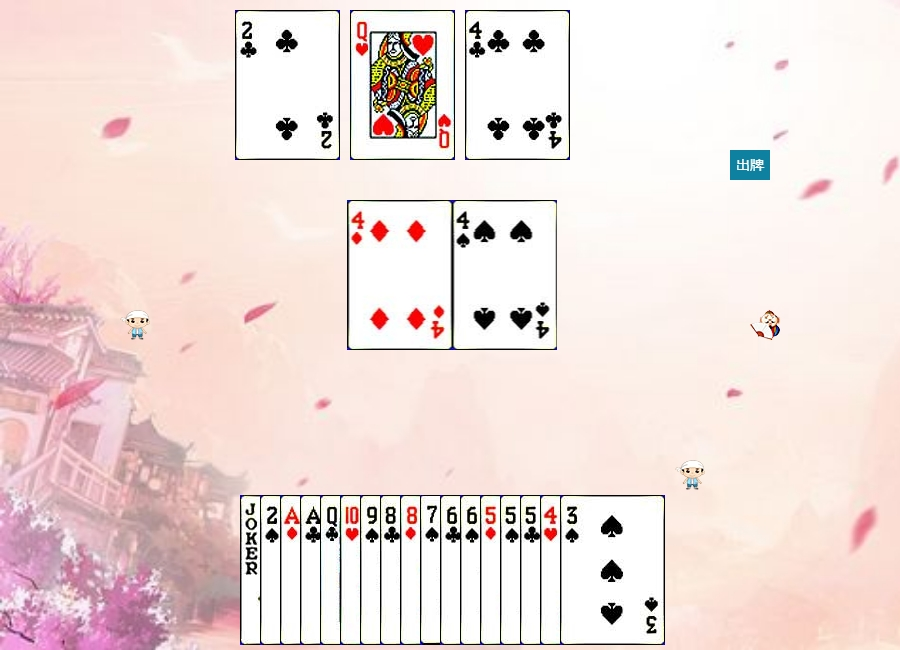10~3: (340, 495, 445, 645)
12~2: (320, 495, 425, 645)
12~3: (350, 10, 455, 160)
14~1: (280, 495, 385, 645)
14~2: (300, 495, 405, 645)
15~2: (235, 10, 340, 160)
15~4: (260, 495, 365, 645)
17~3: (240, 495, 345, 645)
3~4: (560, 495, 665, 645)
4~1: (348, 200, 453, 350)
4~2: (465, 10, 570, 160)
4~3: (540, 495, 645, 645)
4~4: (453, 200, 558, 350)
5~1: (480, 495, 585, 645)
5~2: (520, 495, 625, 645)
5~4: (500, 495, 605, 645)
6~2: (440, 495, 545, 645)
6~4: (460, 495, 565, 645)
7~4: (420, 495, 525, 645)
8~1: (400, 495, 505, 645)
8~2: (380, 495, 485, 645)
9~4: (360, 495, 465, 645)
